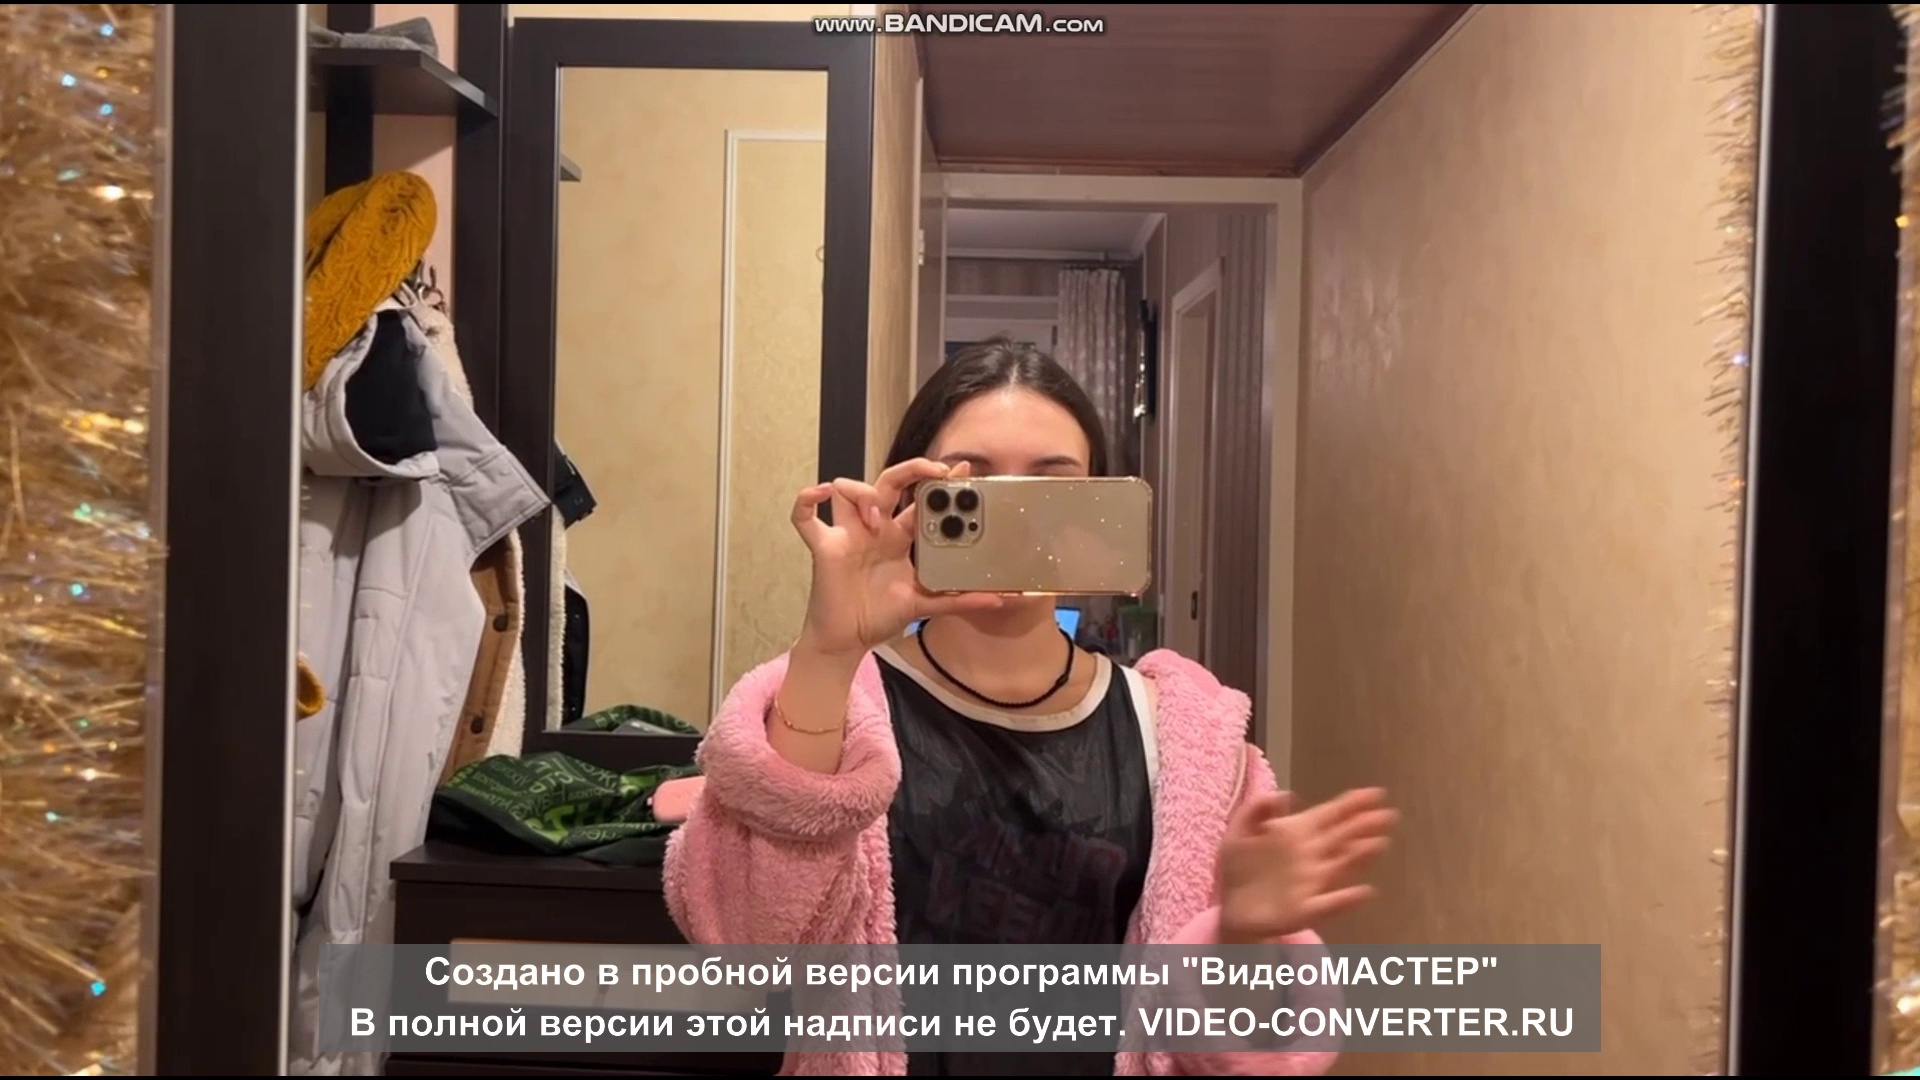Ладонь: (1213, 786, 1398, 935)
